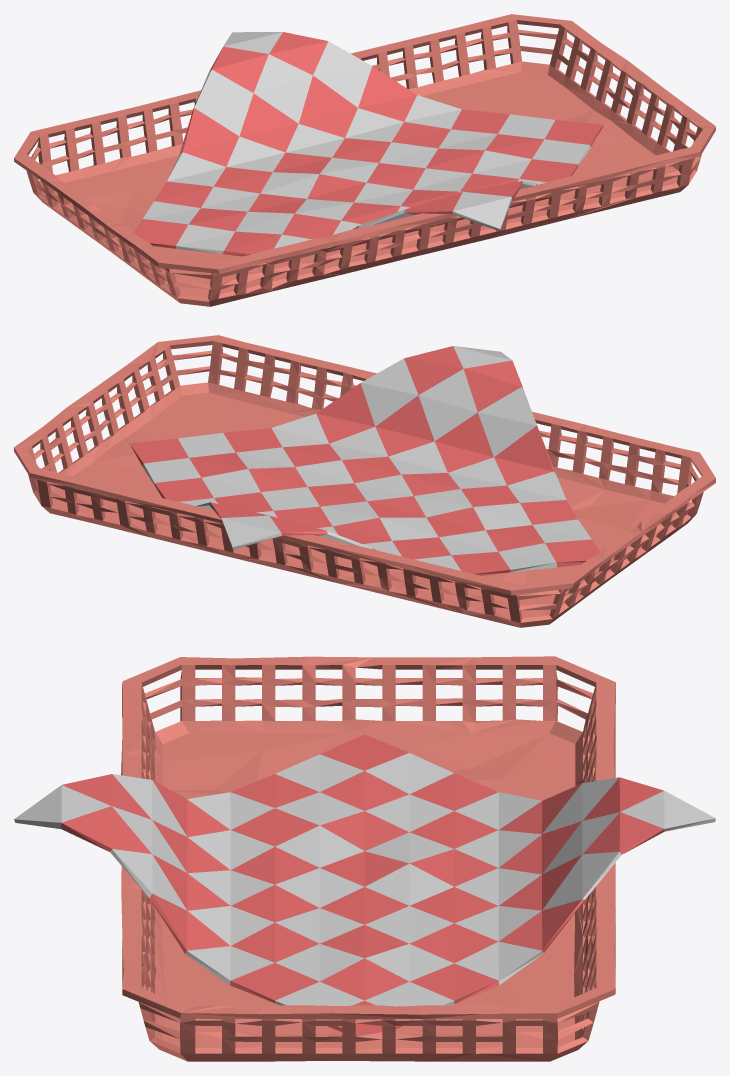
The model's file is SandwichBasket.fbx.
The picture shows the model from 3 angles, top to bottom: view 1: azimuth 30°, elevation 25°; view 2: azimuth 150°, elevation 25°; view 3: azimuth 270°, elevation 25°; orthographic projection. The views are drawn at different scales.
Visible parts, largest first — view 1: Basket; view 2: Basket; view 3: Basket.
Part boxes in pixels (x1,y1,x2,y2): Basket: (14,14,715,306); Basket: (14,335,715,627); Basket: (14,656,715,1061).
Size of the model in its own units: 370 by 48.18 by 306.
